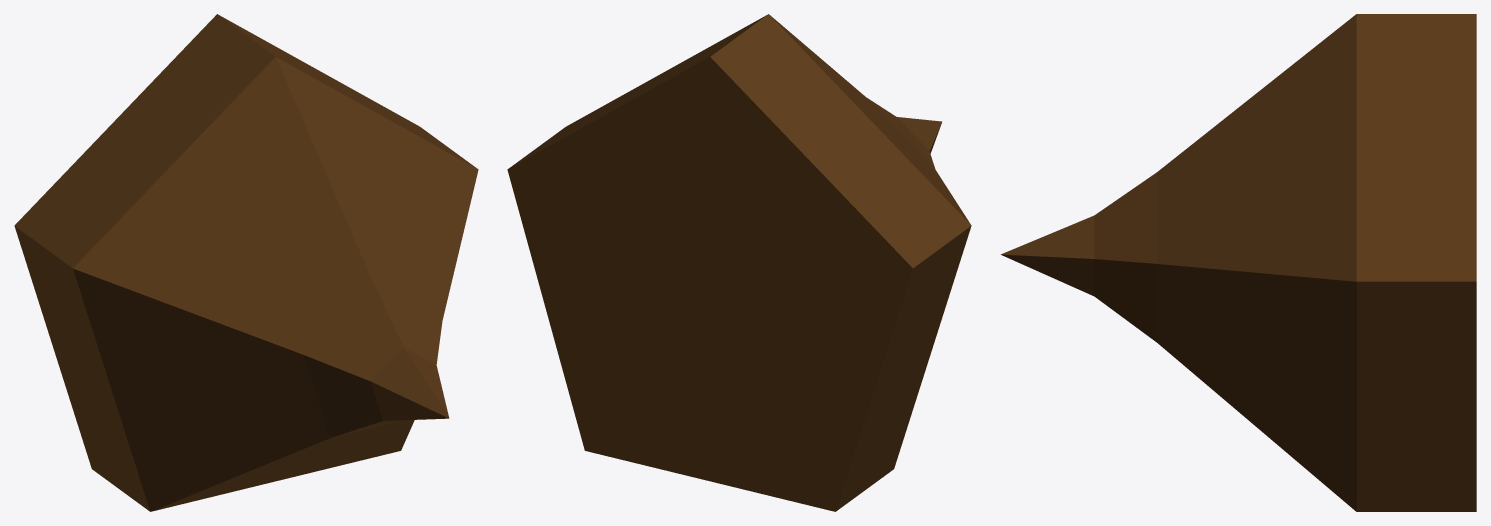
Rendered from chispa chocolate 1.fbx.
3 renders of one model, left to right at view 1: azimuth 30°, elevation 25°; view 2: azimuth 150°, elevation 25°; view 3: azimuth 270°, elevation 25°, orthographic. The views are drawn at different scales.
Visible parts, largest first — view 1: chispa choco; view 2: chispa choco; view 3: chispa choco.
Boxes of the visible parts, x1=… form: chispa choco: x1=14, y1=14, x2=478, y2=511; chispa choco: x1=507, y1=14, x2=971, y2=511; chispa choco: x1=1001, y1=14, x2=1476, y2=511.
Size of the model in its own units: 0.8 by 0.8 by 0.7932.
